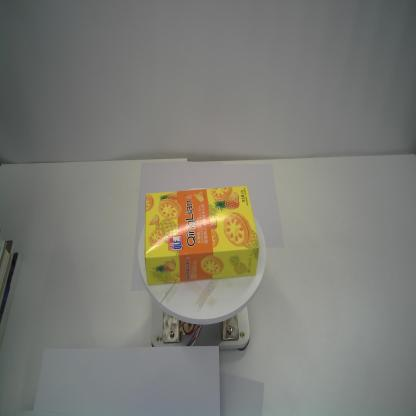Dessert: (145, 184, 260, 286)
